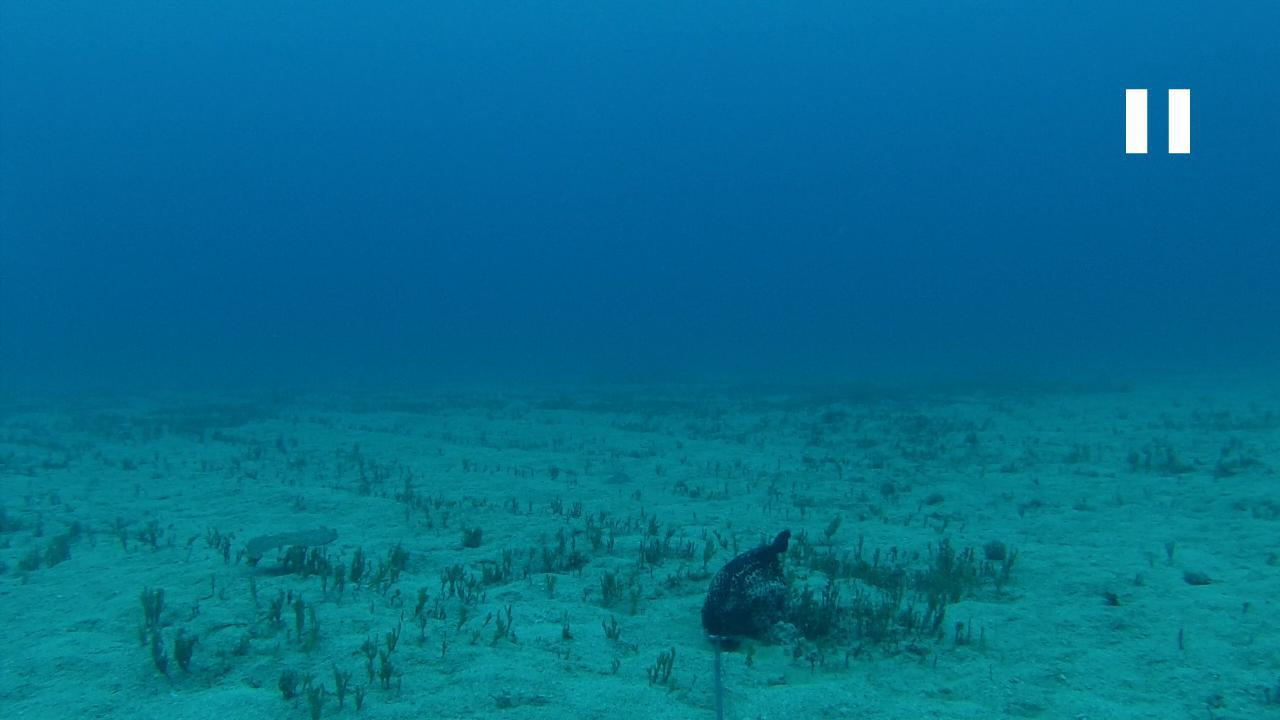bothus: (239, 521, 341, 559)
